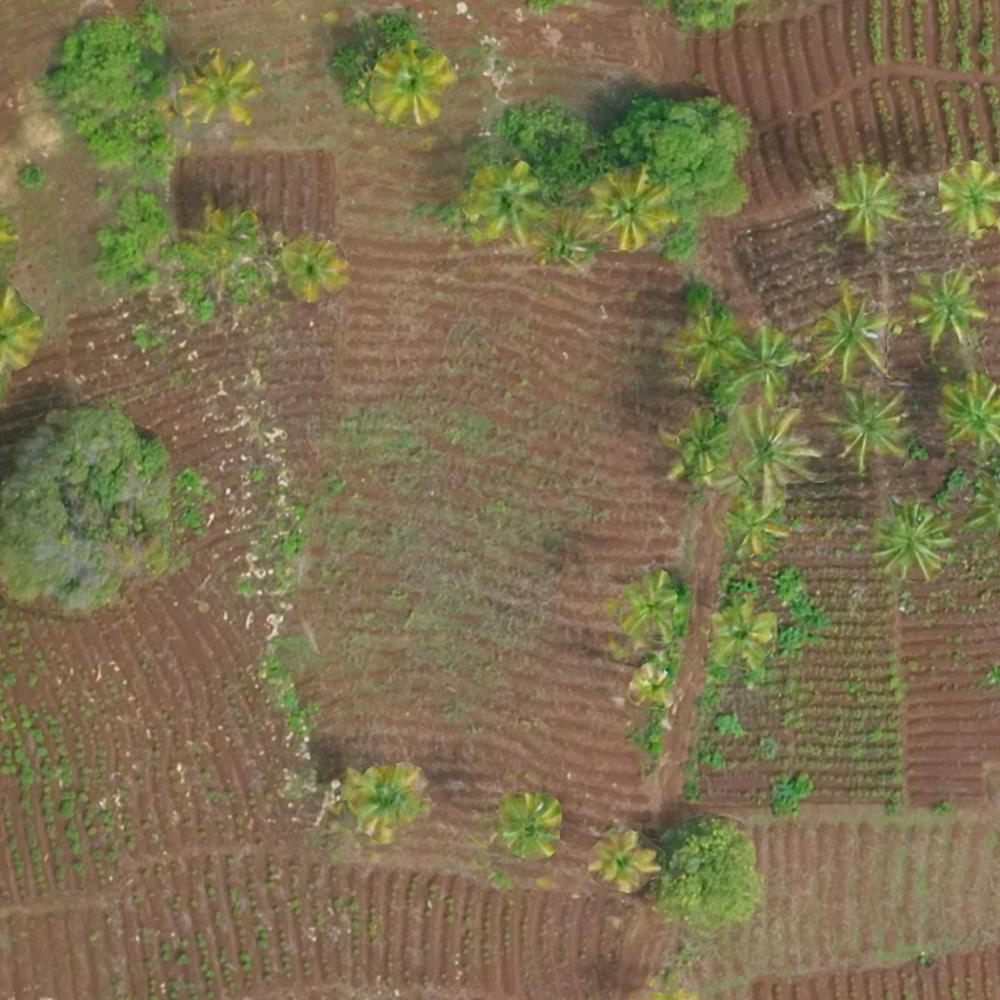Palm: (730, 406, 819, 494), (587, 168, 674, 248), (871, 498, 951, 582), (821, 386, 908, 461), (807, 300, 887, 380), (468, 161, 549, 239), (369, 46, 451, 123), (658, 412, 733, 490), (908, 272, 985, 345), (610, 566, 684, 641), (728, 322, 802, 395), (827, 166, 904, 236), (181, 51, 253, 125), (349, 764, 424, 834), (493, 791, 562, 863), (934, 162, 1000, 233), (707, 596, 778, 662), (672, 311, 740, 379), (717, 496, 786, 561), (588, 829, 659, 892), (940, 372, 1000, 446), (282, 234, 350, 297)
